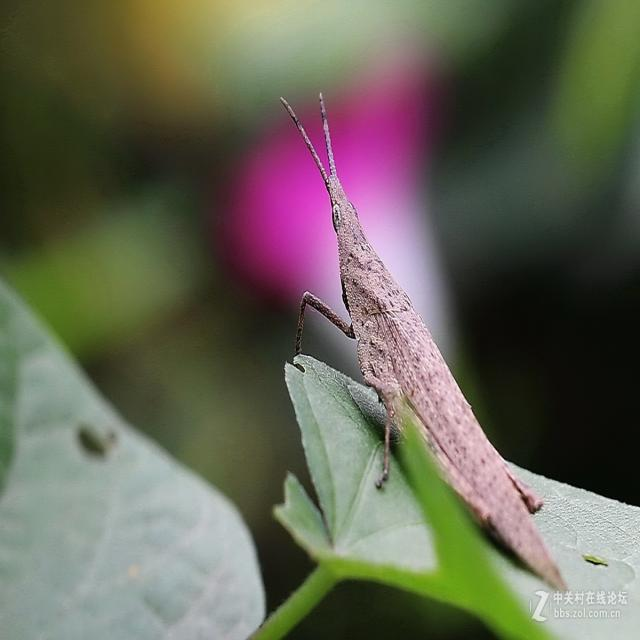ZhaMeng: (264, 74, 562, 581)
